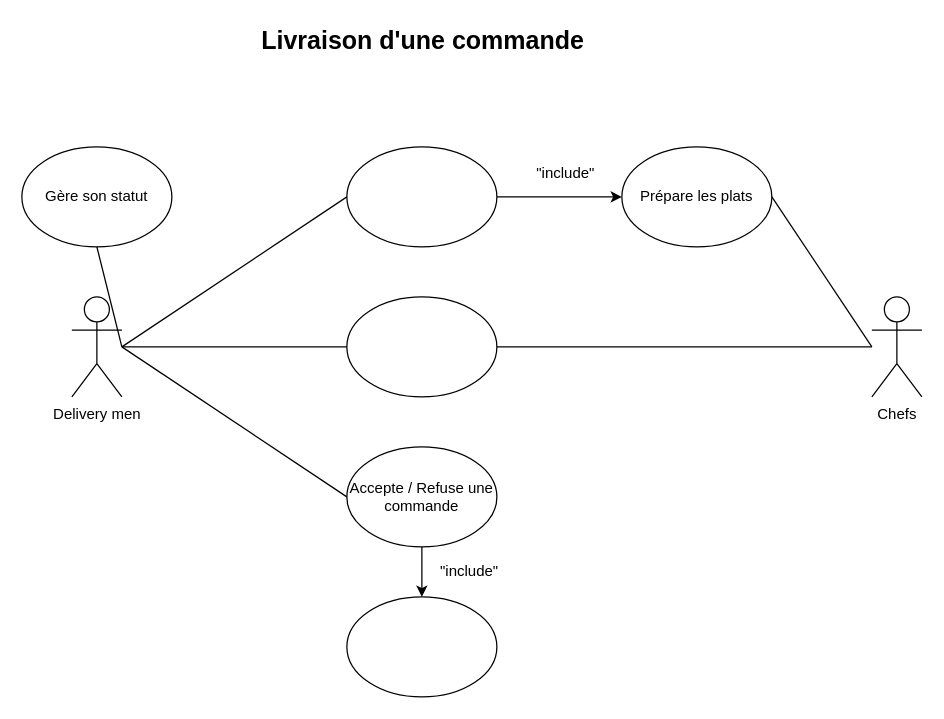
Image size: 944x719. Some labels were removed from this diagram. Each missing label, with the centre of its shape:
"Gère le stock" belongs at (421,346).
"Livre la commande" belongs at (421,646).
"Récupère les plats" belongs at (421,196).
